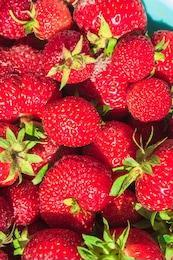Fresa: (37, 151, 114, 215), (39, 26, 97, 87), (132, 133, 173, 216), (113, 29, 161, 84)
